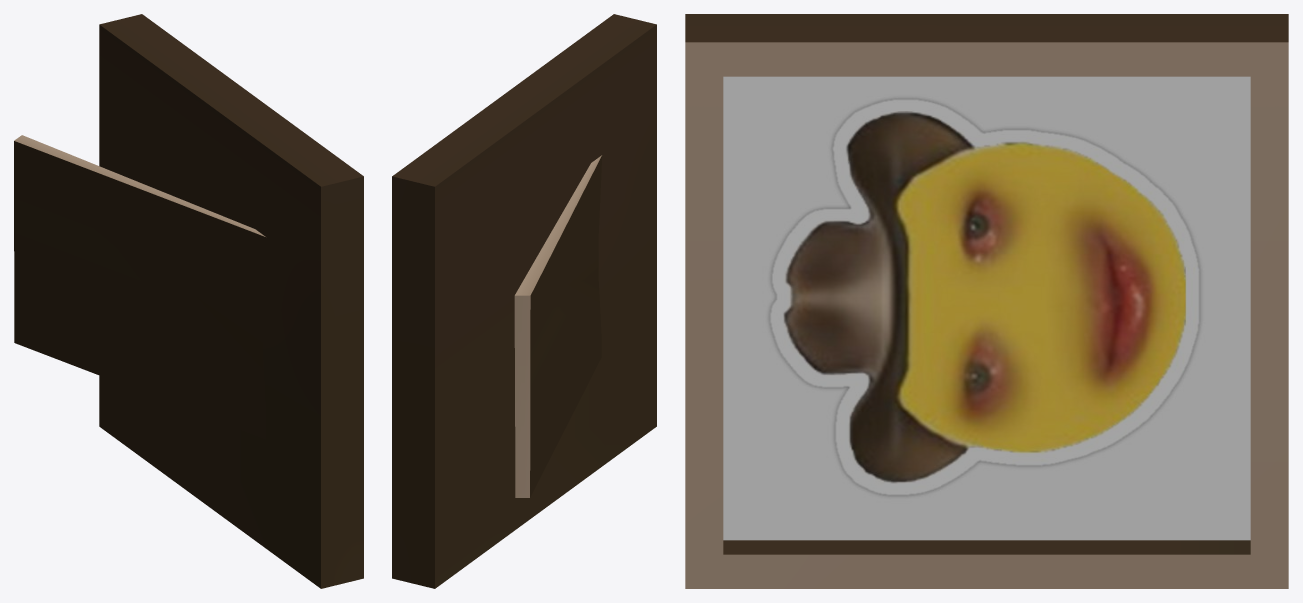
The model's file is SADCOWBY.fbx.
The picture shows the model from 3 angles, left to right: view 1: azimuth 30°, elevation 25°; view 2: azimuth 150°, elevation 25°; view 3: azimuth 270°, elevation 25°; orthographic projection. The views are drawn at different scales.
Parts seen in each view (by area): view 1: Cube; view 2: Cube; view 3: Cube.
Boxes of the visible parts, left/top/right/bottom form: Cube: left=14, top=14, right=363, bottom=588; Cube: left=392, top=14, right=656, bottom=588; Cube: left=685, top=14, right=1288, bottom=588.
Size of the model in its own units: 179 by 515 by 515.
1 material, 1 textured.
